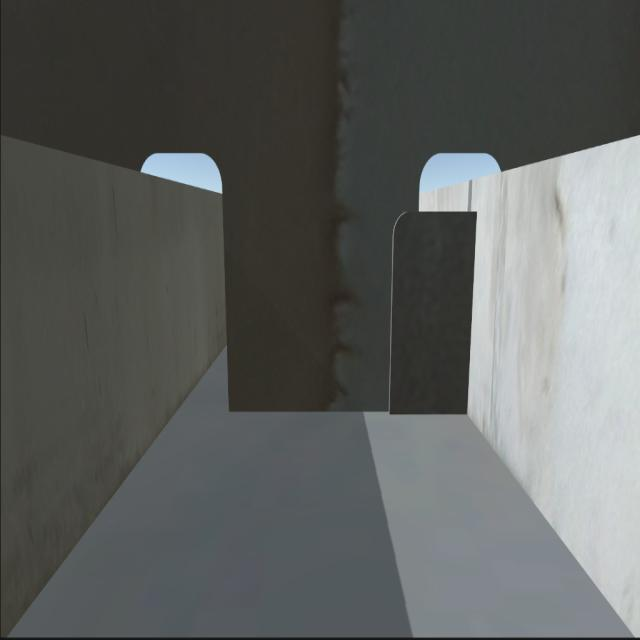fillet_yong_jeop_jang: (227, 400, 471, 420)
longi_yong_jeop_jang: (461, 206, 481, 414)
plate_CP05: (392, 205, 471, 418)
